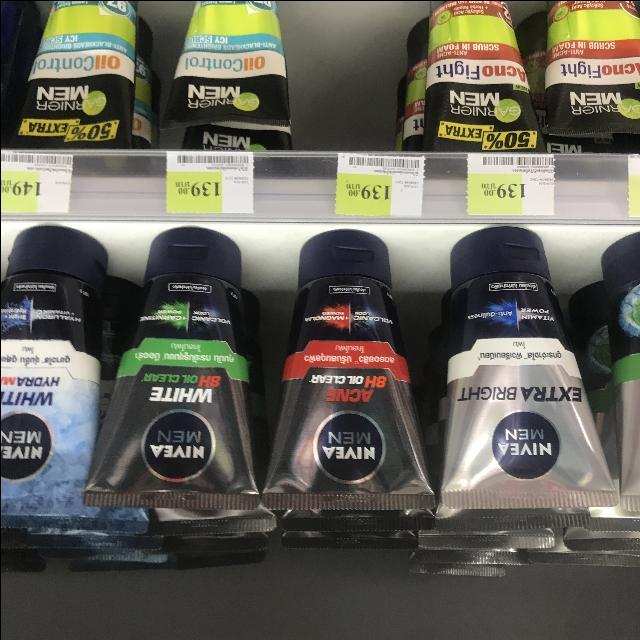Squeeze Tube: (432, 222, 625, 562), (79, 227, 268, 507), (4, 216, 144, 584), (264, 225, 432, 531), (408, 0, 541, 161), (169, 0, 298, 157), (16, 0, 134, 153), (550, 0, 640, 159)
